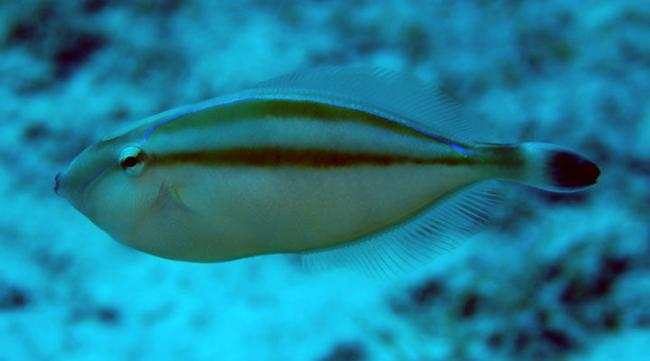fish: (54, 66, 601, 279)
